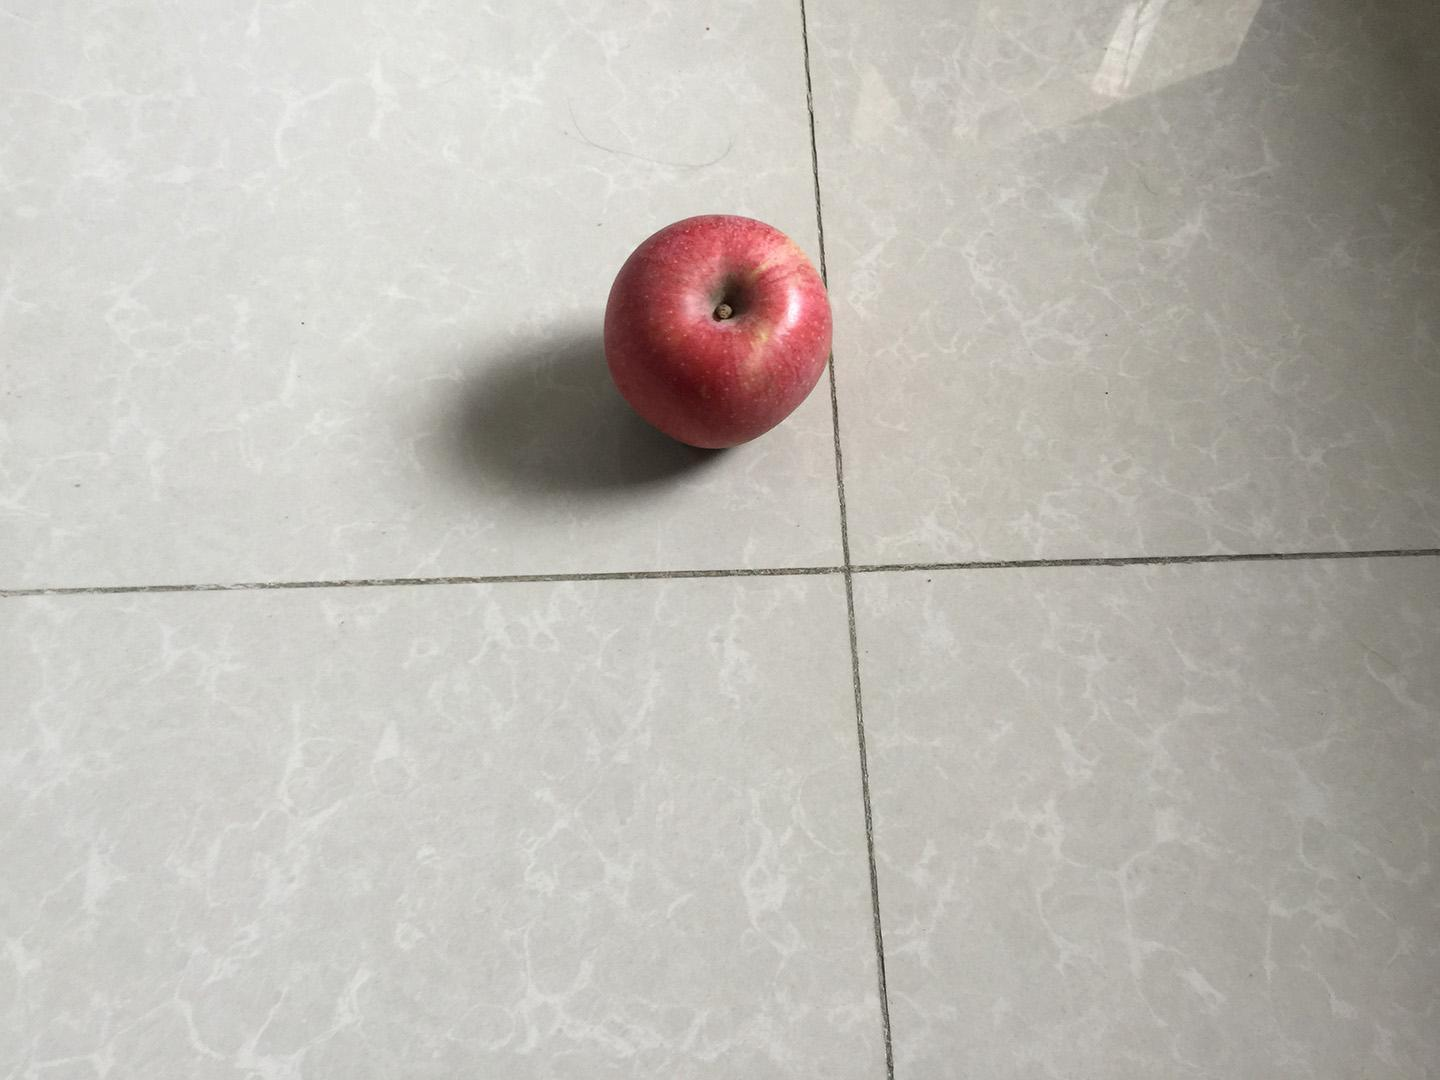apple: (592, 206, 840, 457)
